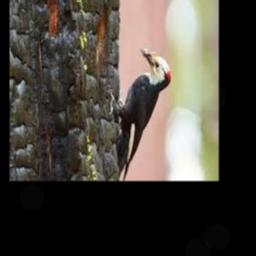Woodpecker: (106, 45, 169, 181)
